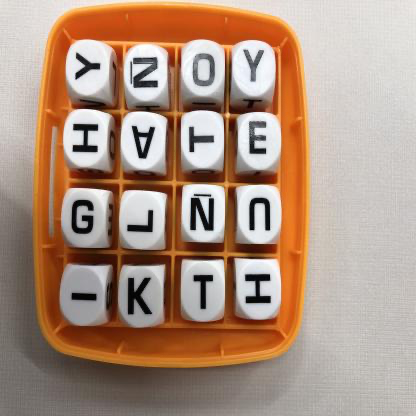a: (122, 114, 166, 170)
e: (238, 115, 282, 172)
g: (62, 190, 107, 249)
h: (236, 259, 282, 320), (63, 111, 109, 168)
i: (61, 265, 106, 326)
k: (120, 266, 164, 328)
l: (121, 191, 166, 252)
n: (183, 184, 226, 244), (126, 45, 168, 103)
o: (182, 41, 226, 97)
t: (183, 260, 226, 322), (182, 110, 225, 168)
u: (237, 187, 281, 246)
y: (233, 41, 277, 99), (66, 41, 109, 96)
